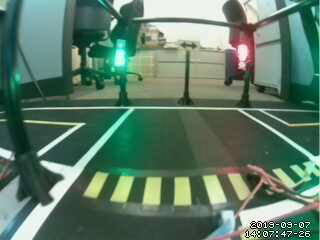Left_Right_sign: (177, 38, 200, 49)
Traffic_light_green: (114, 39, 125, 66)
Traffic_light_red: (236, 45, 249, 73)
